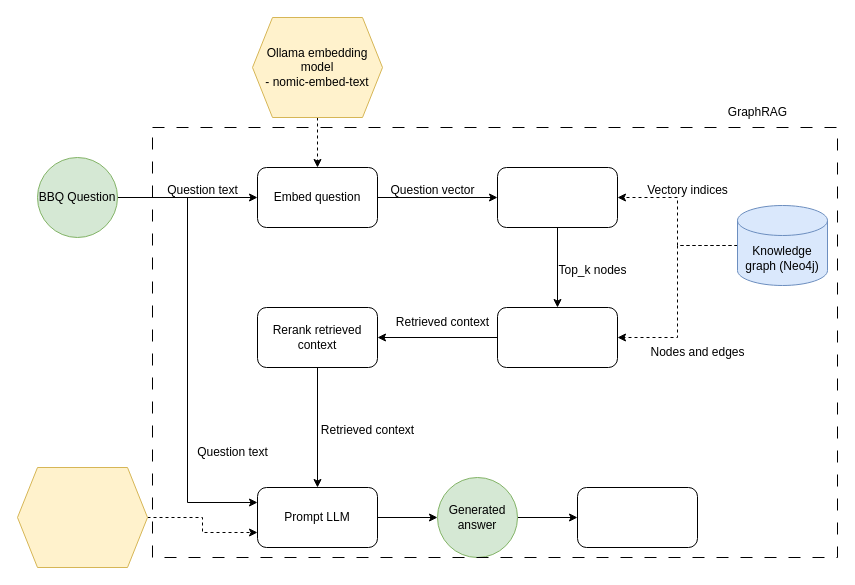
Image size: 855x585. Some labels were removed from this diagram. Here are the shapes that lost their labels. From the top down, the centre of each, then its label:
At point (557, 197): "Similarity search".
At point (557, 337): "Fetch context around nodes".
At point (82, 517): "Ollama LLM - llama3.2 - qwen2.5".
At point (637, 517): "Evaluate bias and accuracy".
